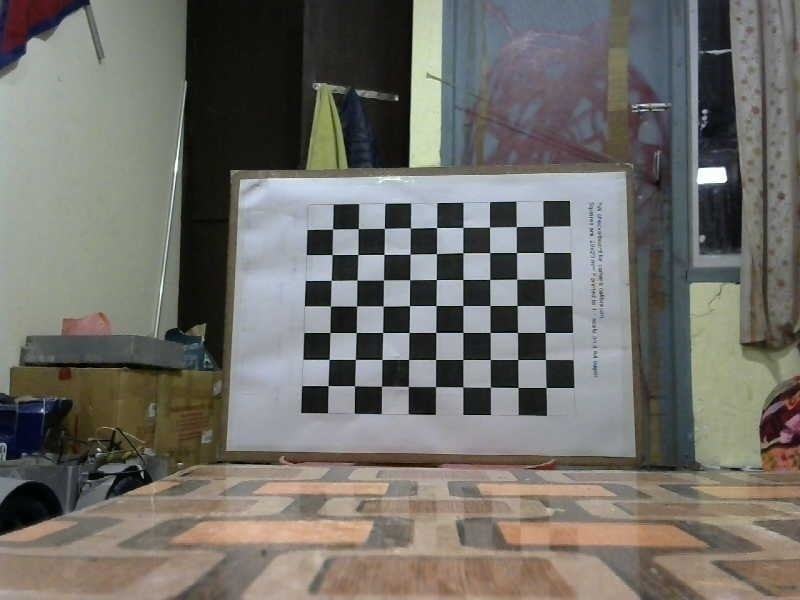block: (232, 168, 634, 453)
